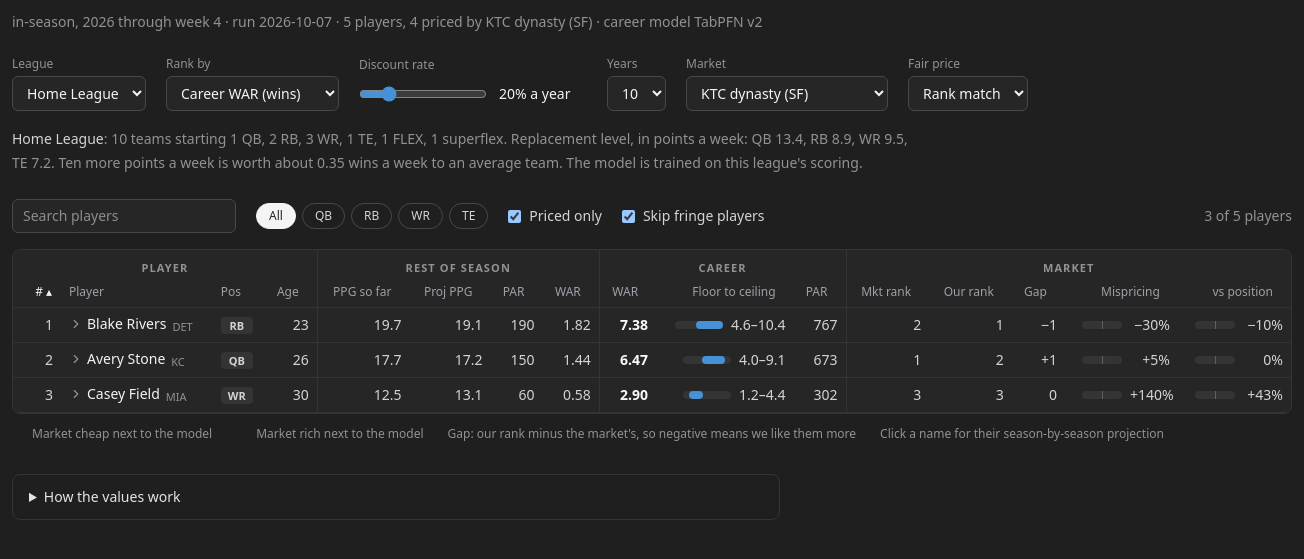
Test: Player values › shows a new discount rate at once and refetches once the slider settles
Set the slider labelled "Discount rate" to "35" at (406, 94), box [359,86,487,102]
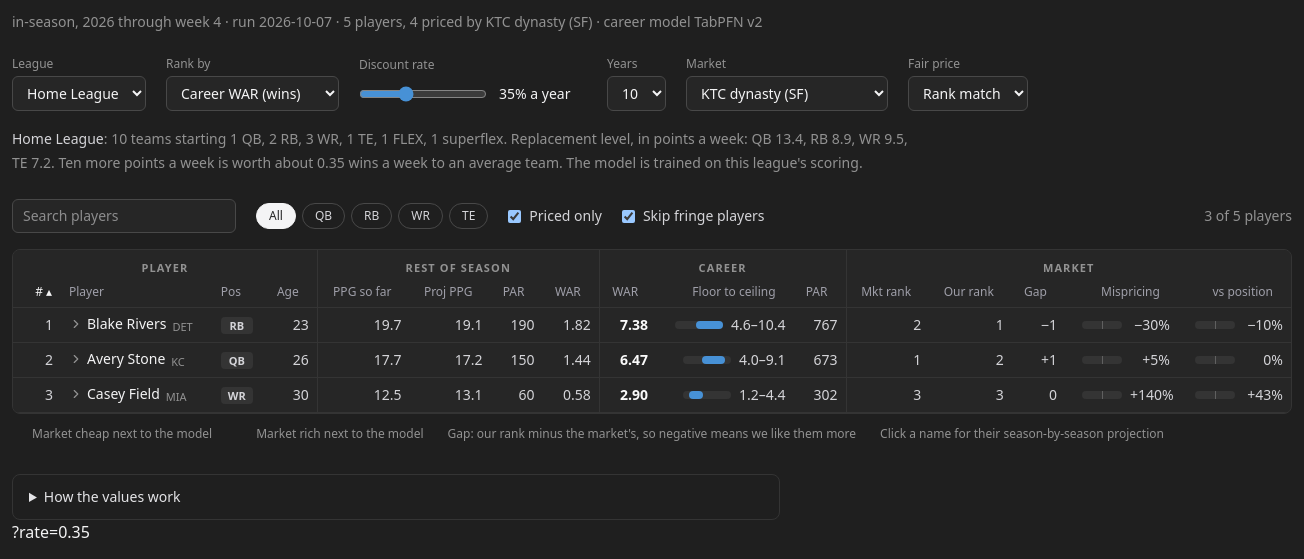
Expected: the text "35% a year" is shown, [499,84,570,103]
Expected: the text with test id "url" reads "?rate=0.35", [12,521,90,543]
